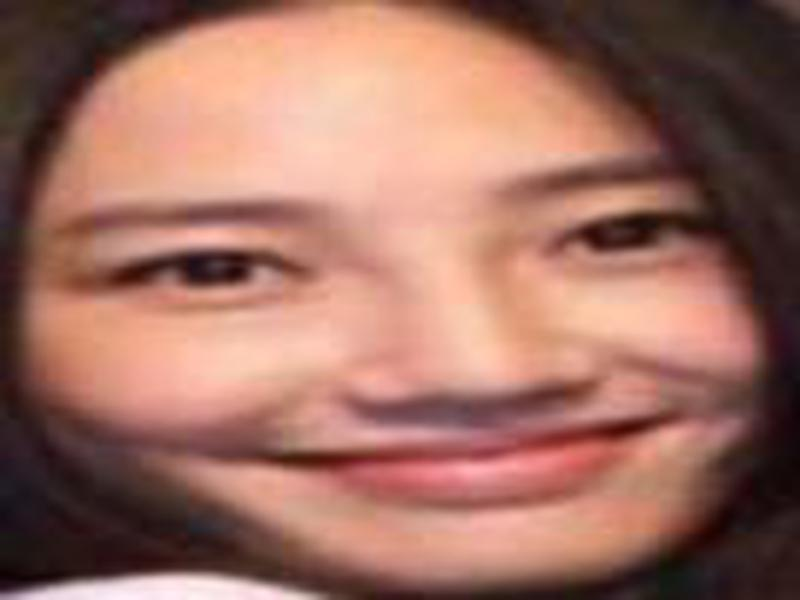without_mask: (31, 74, 763, 584)
